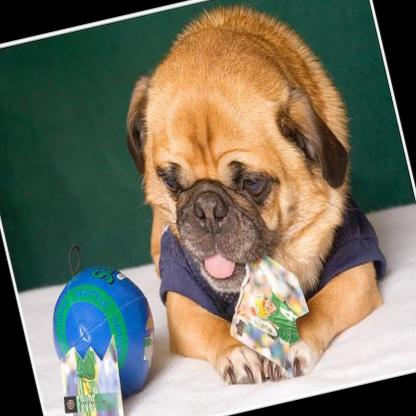pug: (92, 0, 404, 402)
